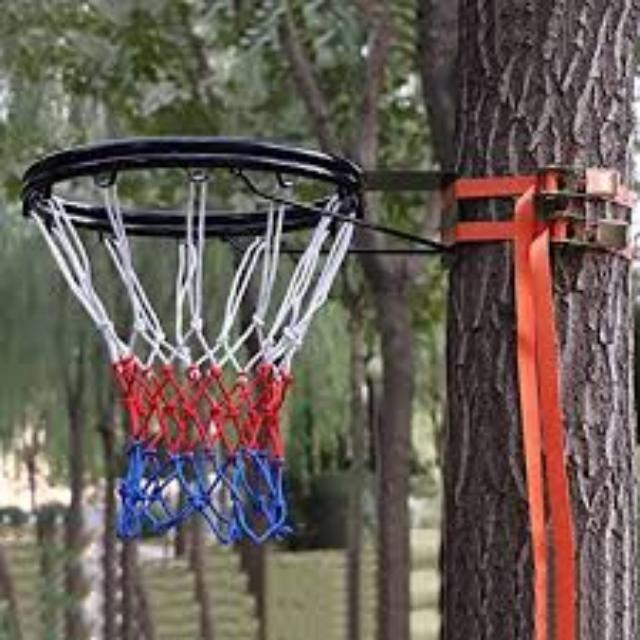rim: (21, 138, 362, 542)
